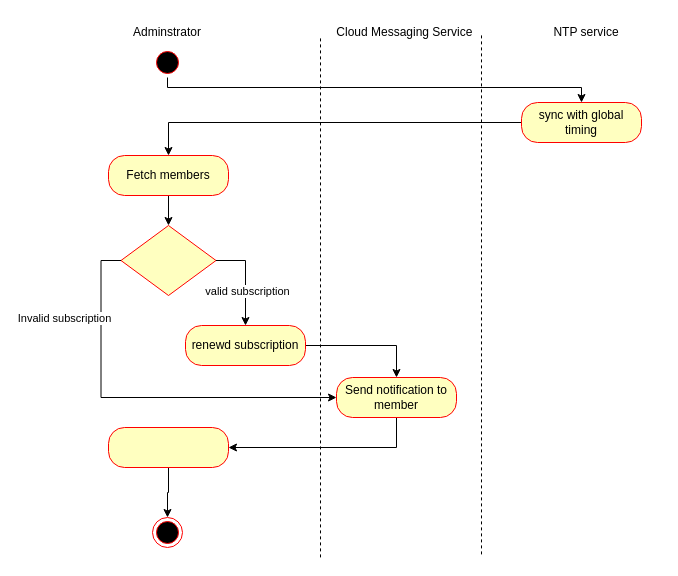
Some shapes in this 678 by 576 pixel diagram are drawn without their labels. Each missing label, with the centre of its shape:
"check subscription" goes at pixel 168 260.
"save changes" goes at pixel 168 447.
